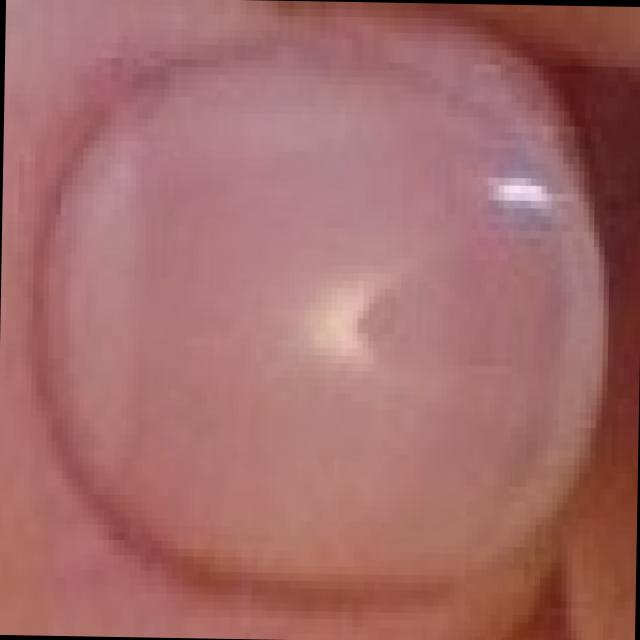Nail: (38, 23, 605, 582)
